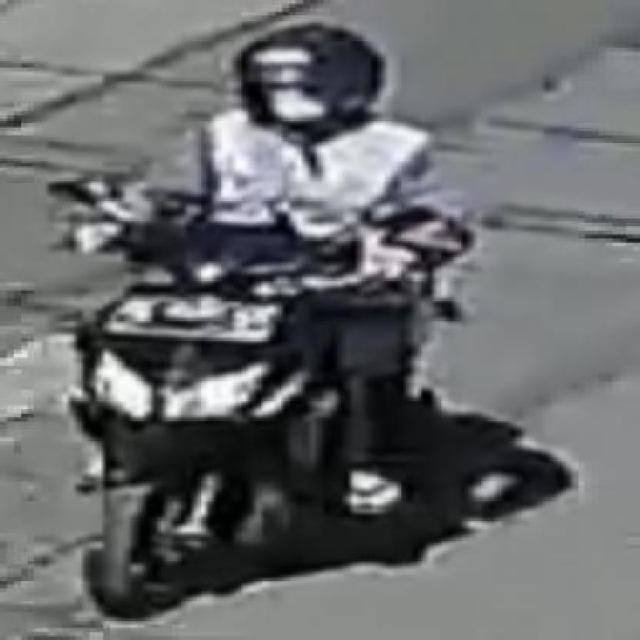helmet: (194, 6, 390, 164)
motorcycle: (33, 6, 473, 640)
